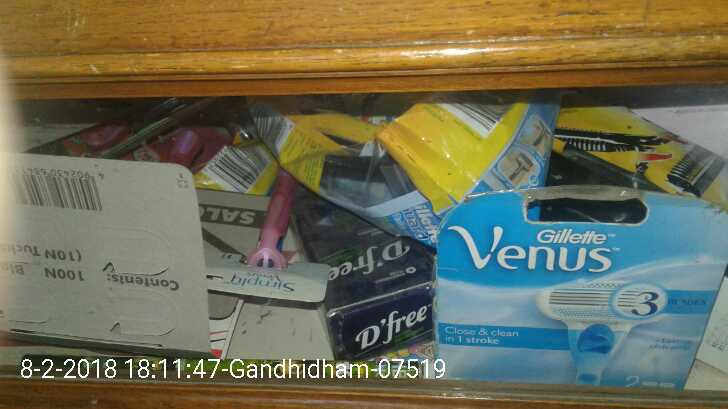venus: (442, 185, 713, 386)
